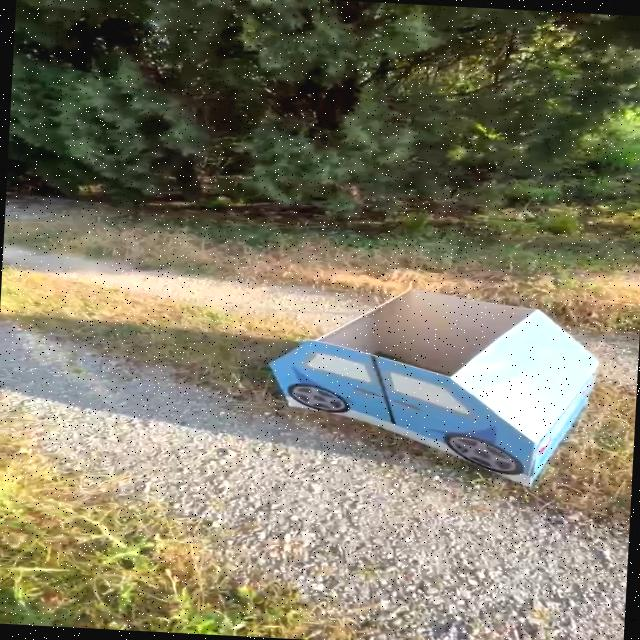blue_car: (218, 273, 640, 516)
